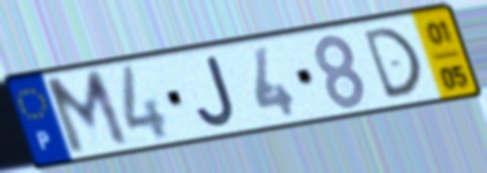4: (119, 62, 173, 143), (251, 43, 299, 120)
8: (312, 32, 368, 112)
D: (359, 24, 427, 103)
J: (193, 53, 240, 130)
M: (41, 66, 134, 160)
